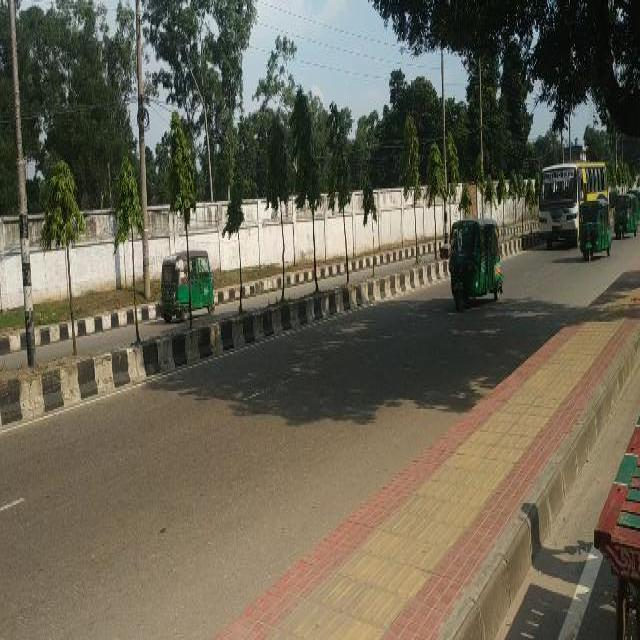17: (448, 218, 504, 305), (158, 247, 215, 318), (576, 198, 612, 264), (612, 191, 638, 236)
Truck: (536, 160, 608, 235)
